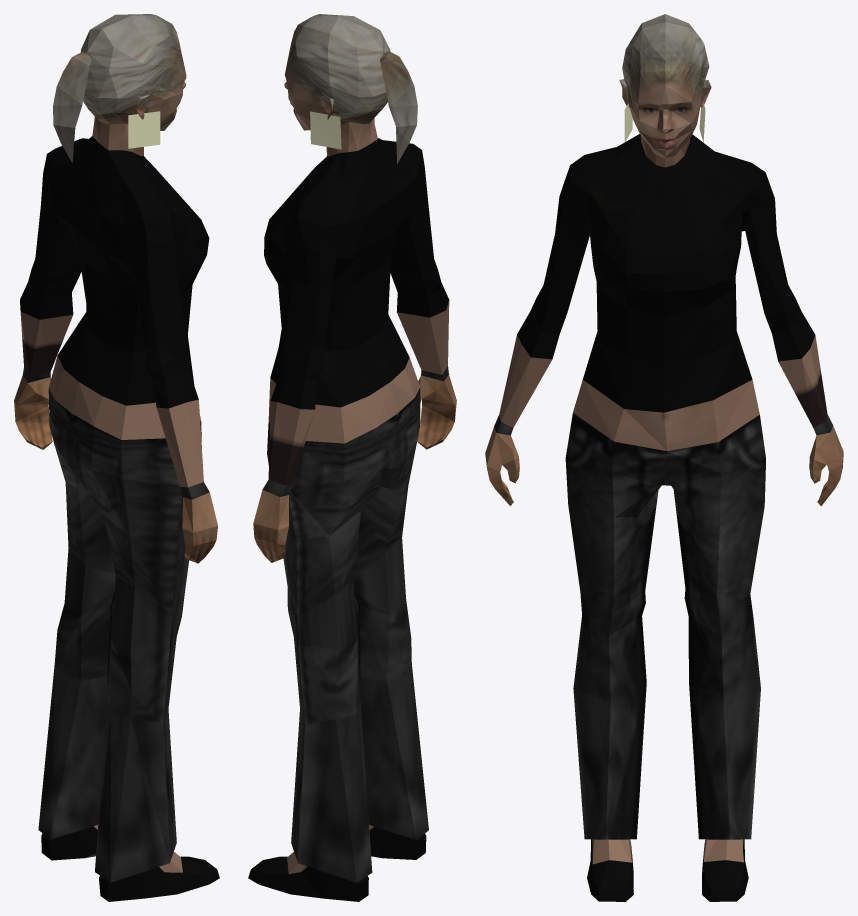
File: wfyst.obj
The picture shows the model from 3 angles, left to right: view 1: azimuth 30°, elevation 25°; view 2: azimuth 150°, elevation 25°; view 3: azimuth 270°, elevation 25°; orthographic projection.
Parts seen in each view (by area): view 1: _Pelvis; view 2: _Pelvis; view 3: _Pelvis.
Boxes of the visible parts, x1,y1,x2,y2 form: _Pelvis: [14, 14, 219, 901]; _Pelvis: [248, 14, 456, 901]; _Pelvis: [485, 14, 843, 901].
Bounding box in the file's own units: 0.3109 × 1.8 × 0.6856.
2 materials, 2 textured.
